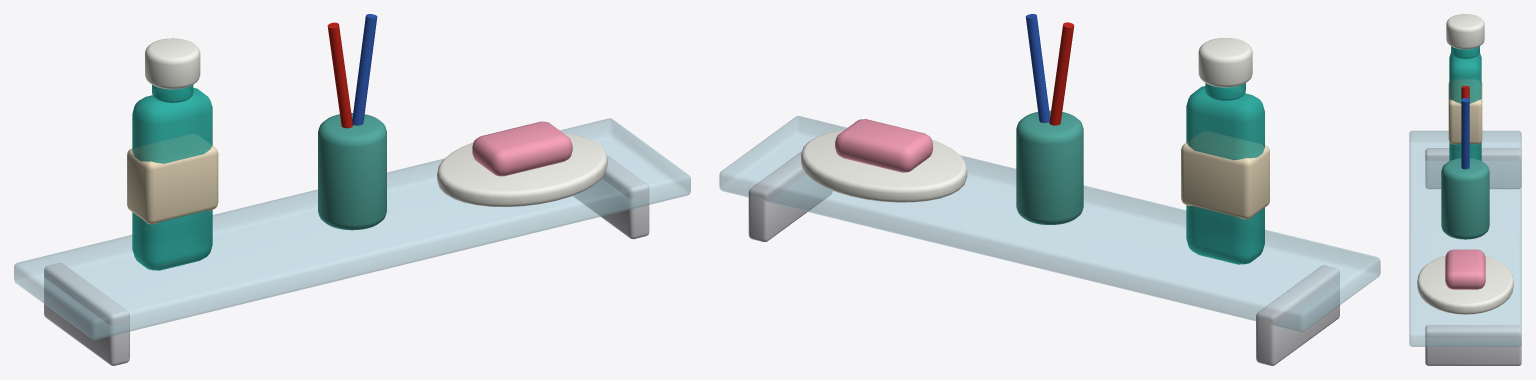
File: bath_shelf.glb
3 views of the same model, side by side, from view 1: azimuth 30°, elevation 25°; view 2: azimuth 150°, elevation 25°; view 3: azimuth 270°, elevation 25° (orthographic). The views are drawn at different scales.
Visible parts, largest first — view 1: bath_shelf; view 2: bath_shelf; view 3: bath_shelf.
Boxes of the visible parts, x1,y1,x2,y2 form: bath_shelf: (14, 14, 690, 365); bath_shelf: (719, 14, 1380, 365); bath_shelf: (1409, 14, 1521, 365).
Size of the model in its own units: 0.6 by 0.265 by 0.14.
